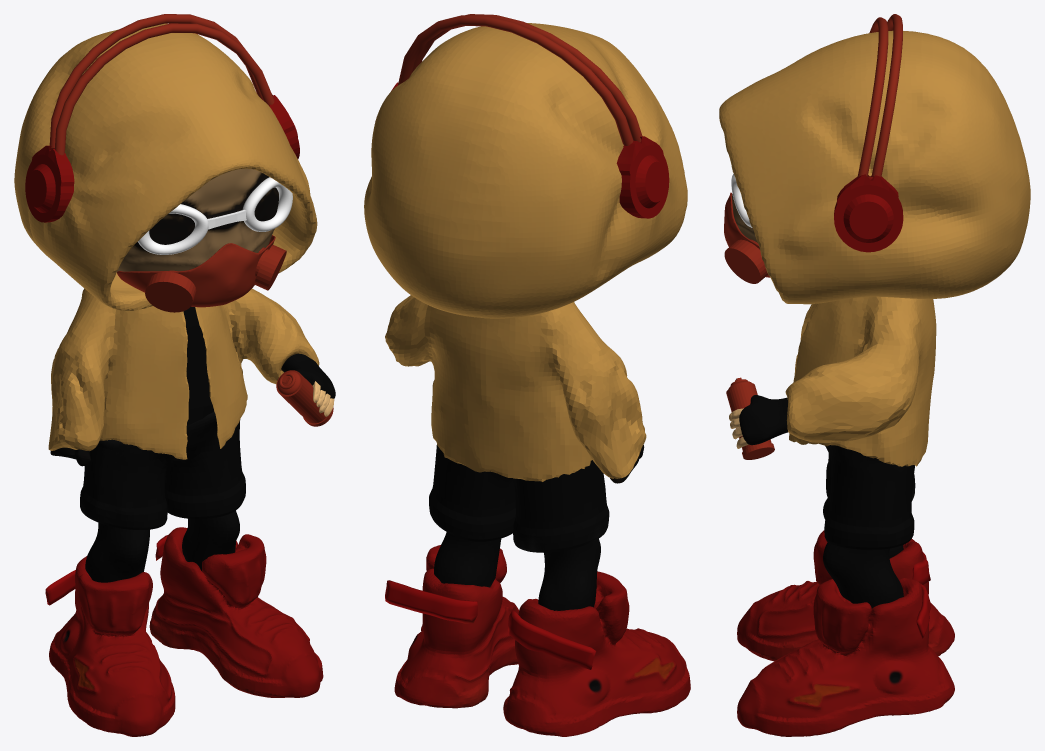
File: Leonel_Messi_psg_edition.fbx
3 renders of one model, left to right at view 1: azimuth 30°, elevation 25°; view 2: azimuth 150°, elevation 25°; view 3: azimuth 270°, elevation 25°, orthographic. The views are drawn at different scales.
Parts seen in each view (by area): view 1: Cube, Sphere.002, Cube.004, Cylinder.002, Sphere, Cylinder.001, Mesh, Cylinder.004, BézierCurve, Cube.010, Cylinder.003, BézierCurve.001 (+4 smaller); view 2: Cube, Cube.004, Sphere.002, Cylinder.002, Cylinder.001, BézierCurve.001, Cylinder.004, Cube.002, Cube.003, BézierCurve; view 3: Cube, Sphere.002, Cube.004, Cylinder.002, Cylinder.004, Cylinder.001, Cylinder, BézierCurve.001, BézierCurve, Cylinder.003, Cube.005, Mesh.
Part boxes in pixels (<box>): Cube: <box>14,23,317,310</box>; Sphere.002: <box>49,527,323,736</box>; Cube.004: <box>48,288,319,459</box>; Cylinder.002: <box>80,412,245,529</box>; Sphere: <box>117,168,278,271</box>; Cylinder.001: <box>85,510,239,582</box>; Mesh: <box>117,235,275,307</box>; Cylinder.004: <box>25,94,299,222</box>; BézierCurve: <box>54,23,274,155</box>; Cube.010: <box>138,177,292,254</box>; Cylinder.003: <box>145,245,286,312</box>; BézierCurve.001: <box>49,14,261,147</box>; Cube: <box>364,23,687,318</box>; Cube.004: <box>385,295,646,481</box>; Sphere.002: <box>394,545,690,736</box>; Cylinder.002: <box>429,444,609,552</box>; Cylinder.001: <box>434,532,600,610</box>; BézierCurve.001: <box>398,15,633,145</box>; Cylinder.004: <box>375,82,669,218</box>; Cube.002: <box>385,580,477,623</box>; Cube.003: <box>508,610,595,669</box>; BézierCurve: <box>412,14,642,142</box>; Cube: <box>719,30,1030,304</box>; Sphere.002: <box>737,530,954,736</box>; Cube.004: <box>785,296,936,466</box>; Cylinder.002: <box>824,445,915,549</box>; Cylinder.004: <box>834,174,903,252</box>; Cylinder.001: <box>823,498,903,608</box>; Cylinder: <box>739,395,787,445</box>; BézierCurve.001: <box>872,14,902,176</box>; BézierCurve: <box>857,17,888,177</box>; Cylinder.003: <box>724,239,767,283</box>; Cube.005: <box>726,377,774,459</box>; Mesh: <box>724,192,770,277</box>.
Bounding box in the file's own units: 256 × 611 × 263.
